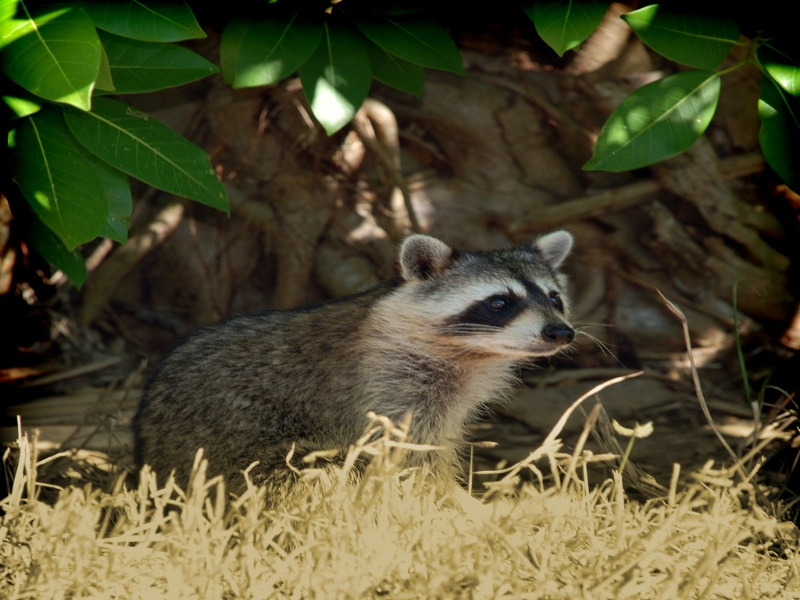raccoon: (134, 227, 580, 481)
